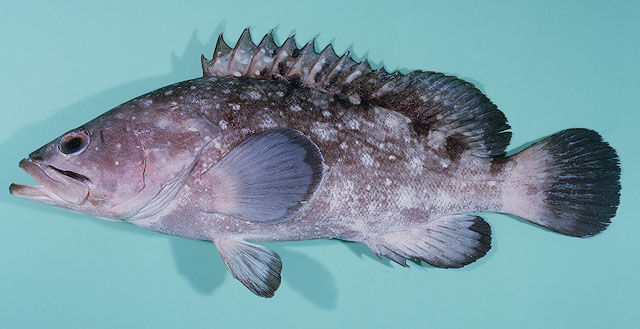fish: (9, 25, 622, 299)
